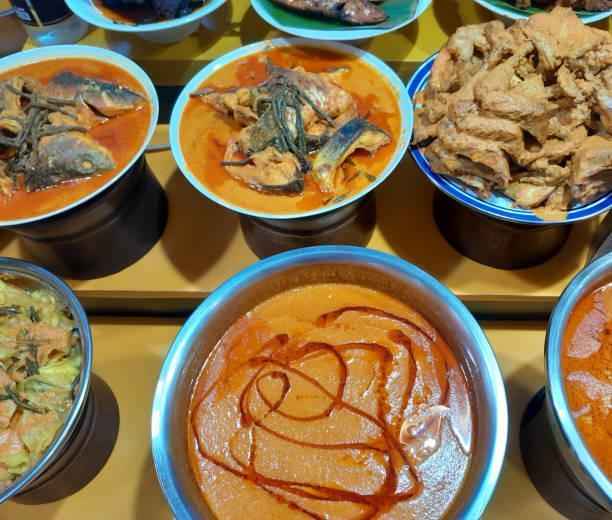Braised Crucian Carp: (151, 245, 504, 516), (168, 36, 406, 219), (405, 40, 608, 221), (2, 43, 160, 225)
